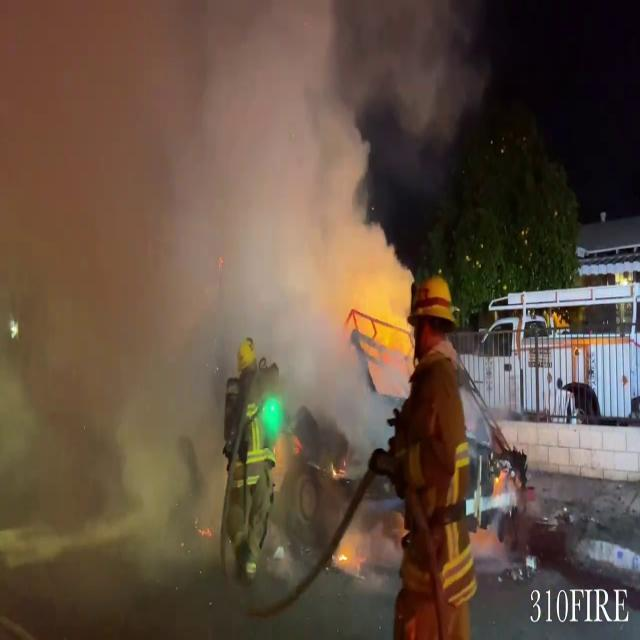Smoke: (0, 0, 396, 538)
